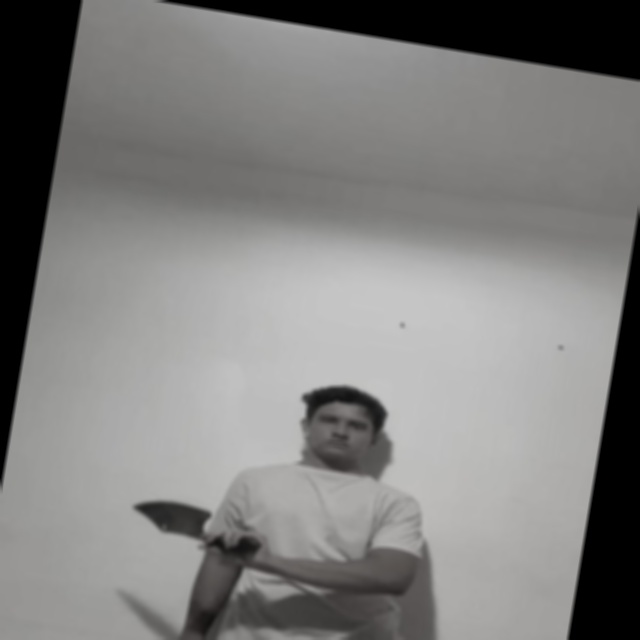Sharp-Object: (128, 495, 214, 542)
